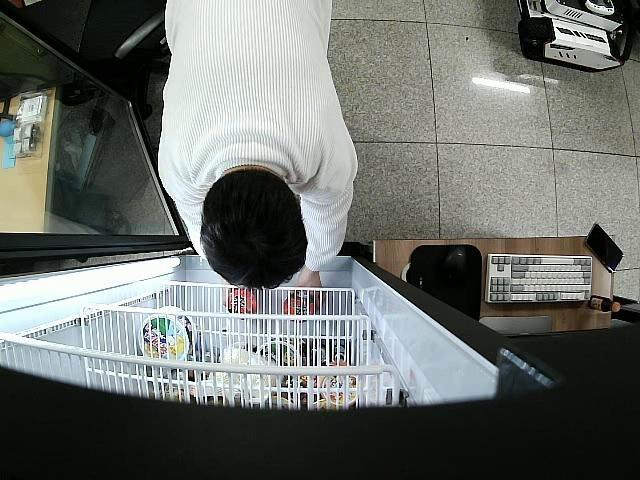02_shinRamen_S: (283, 293, 323, 316)
